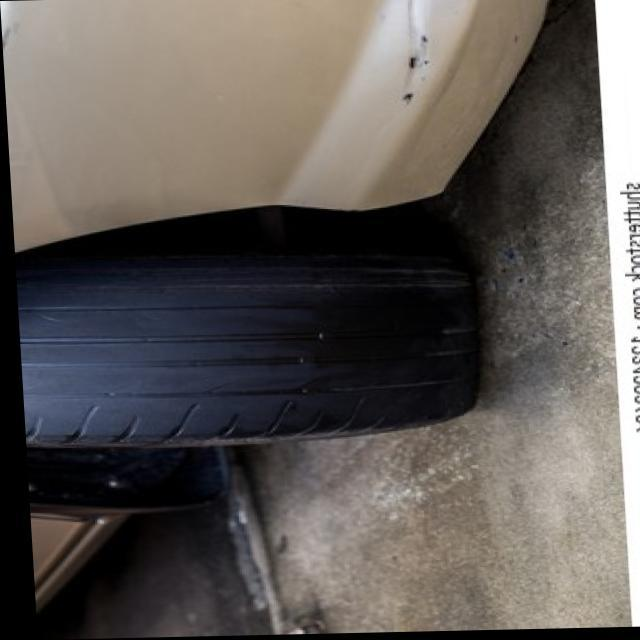Flat spots: (18, 272, 470, 421)
